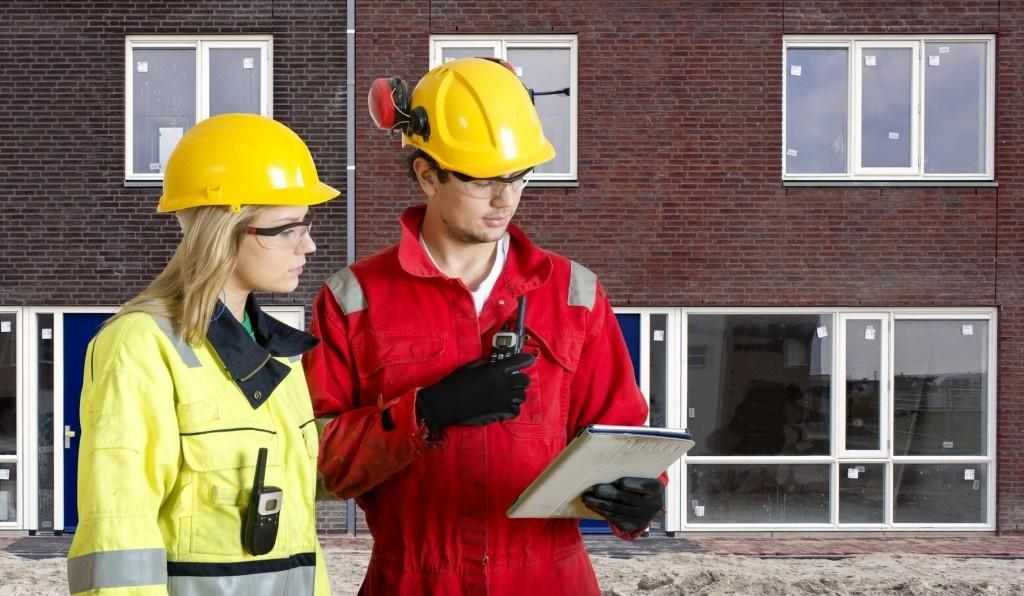helmet: (400, 55, 557, 181), (157, 108, 340, 212)
no-vest: (339, 235, 628, 595), (95, 302, 334, 596)
person: (325, 58, 637, 596), (82, 108, 345, 596)
